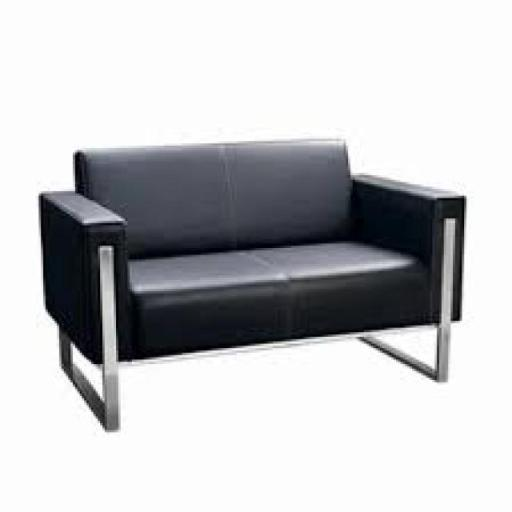sofa: (32, 104, 512, 455)
